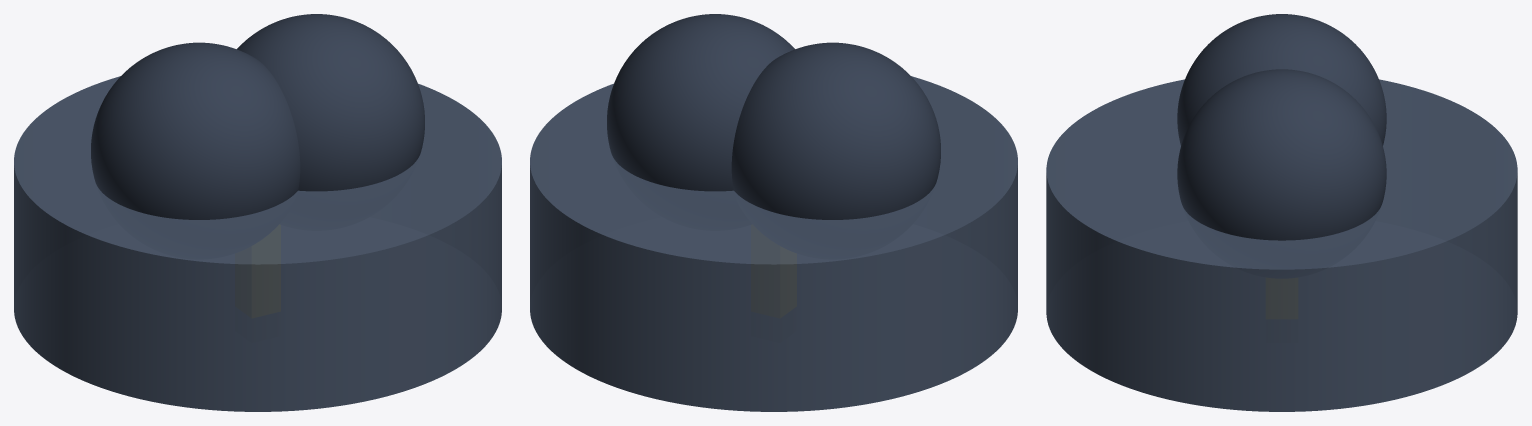
The model's file is firtina.glb.
The picture shows the model from 3 angles, left to right: view 1: azimuth 30°, elevation 25°; view 2: azimuth 150°, elevation 25°; view 3: azimuth 270°, elevation 25°; orthographic projection. The views are drawn at different scales.
Bounding box in the file's own units: 0.036 × 0.024 × 0.036.
